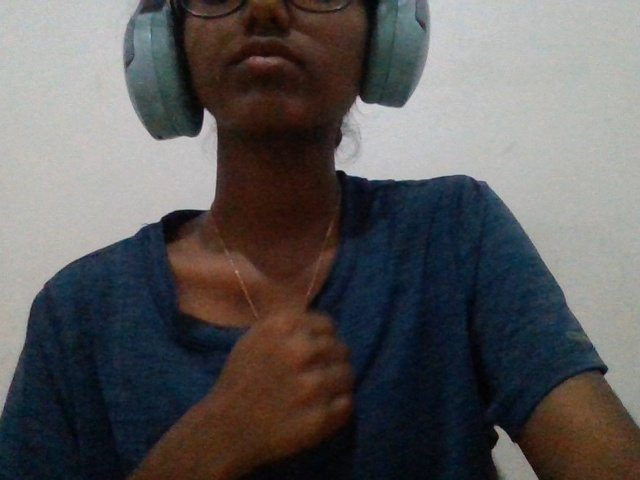Sorry: (167, 294, 380, 480)
